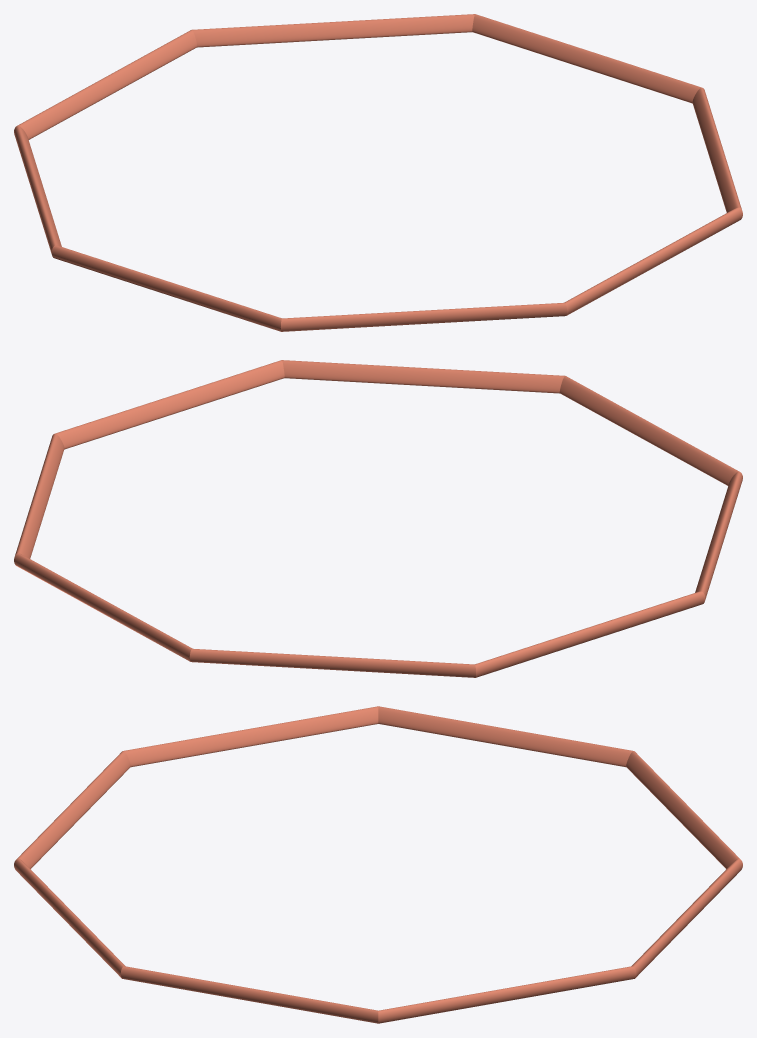
Rendered from ring4.fbx.
3 views of the same model, one above another, from view 1: azimuth 30°, elevation 25°; view 2: azimuth 150°, elevation 25°; view 3: azimuth 270°, elevation 25° (orthographic). The views are drawn at different scales.
Visible parts, largest first — view 1: ring4; view 2: ring4; view 3: ring4.
Boxes of the visible parts, x1=… form: ring4: x1=14, y1=14, x2=742, y2=331; ring4: x1=14, y1=360, x2=742, y2=677; ring4: x1=14, y1=706, x2=742, y2=1023.
Size of the model in its own units: 156 by 3.23 by 156.
